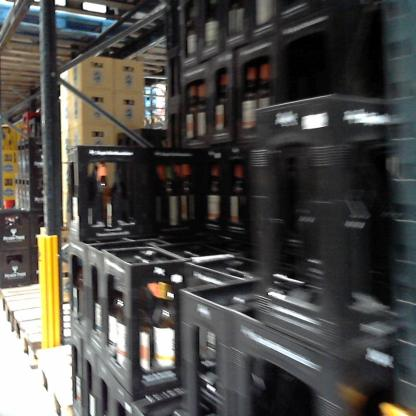pallet: (0, 276, 113, 337), (13, 310, 103, 369), (1, 2, 152, 36), (1, 27, 104, 76), (31, 330, 90, 414)
